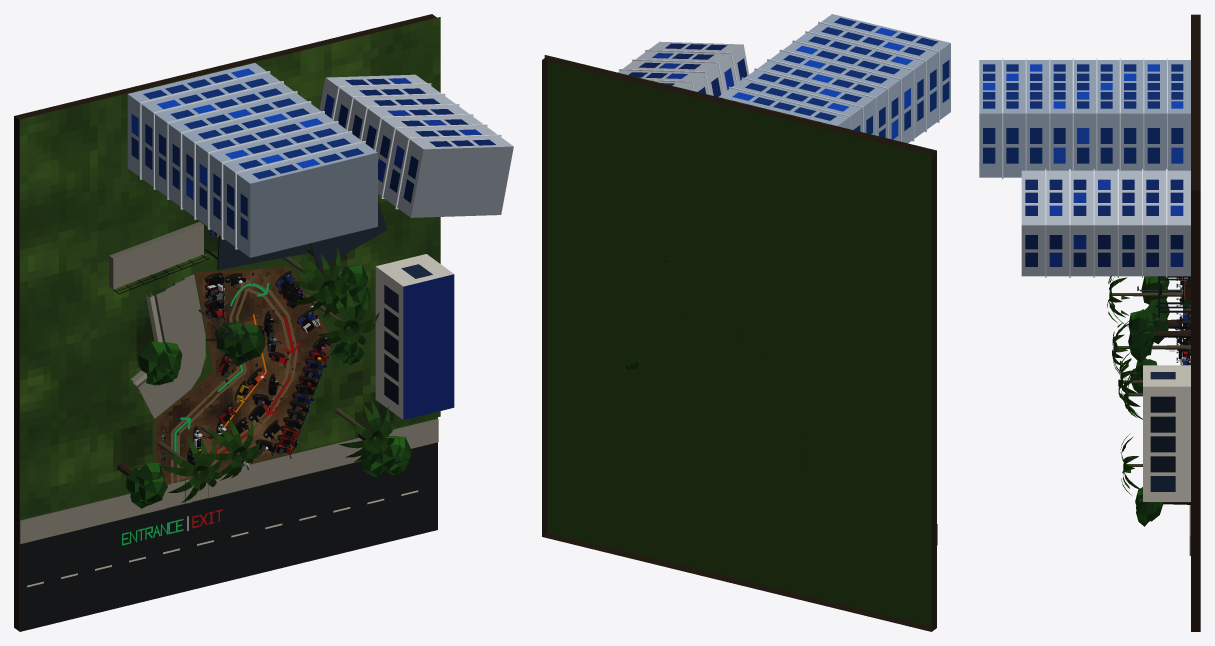
File: ZoneB_realistic.obj
3 views of the same model, side by side, from view 1: azimuth 30°, elevation 25°; view 2: azimuth 150°, elevation 25°; view 3: azimuth 270°, elevation 25° (orthographic). The views are drawn at different scales.
Visible parts, largest first — view 1: ZoneB_realistic; view 2: ZoneB_realistic; view 3: ZoneB_realistic.
Part boxes in pixels (bbox=[...]): ZoneB_realistic: bbox=[14, 14, 513, 631]; ZoneB_realistic: bbox=[542, 14, 950, 631]; ZoneB_realistic: bbox=[979, 14, 1200, 631].
Bounding box in the file's own units: 29.7 × 34.59 × 15.7.
